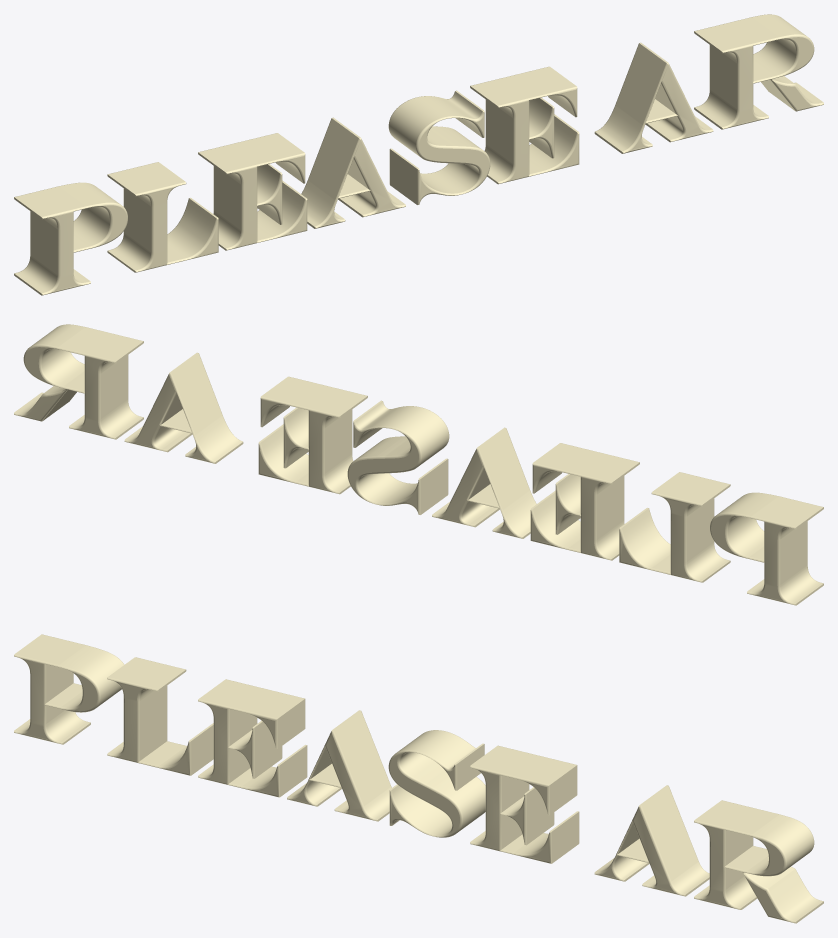
File: PLEASE AR.gltf
3 views of the same model, one above another, from view 1: azimuth 30°, elevation 25°; view 2: azimuth 150°, elevation 25°; view 3: azimuth 330°, elevation 25° (orthographic).
Visible parts, largest first — view 1: 挤压; view 2: 挤压; view 3: 挤压.
Boxes of the visible parts, x1,y1,x2,y2 form: 挤压: [14, 14, 823, 295]; 挤压: [14, 324, 823, 605]; 挤压: [14, 634, 823, 923].
Bounding box in the file's own units: 1668 × 166 × 108.
